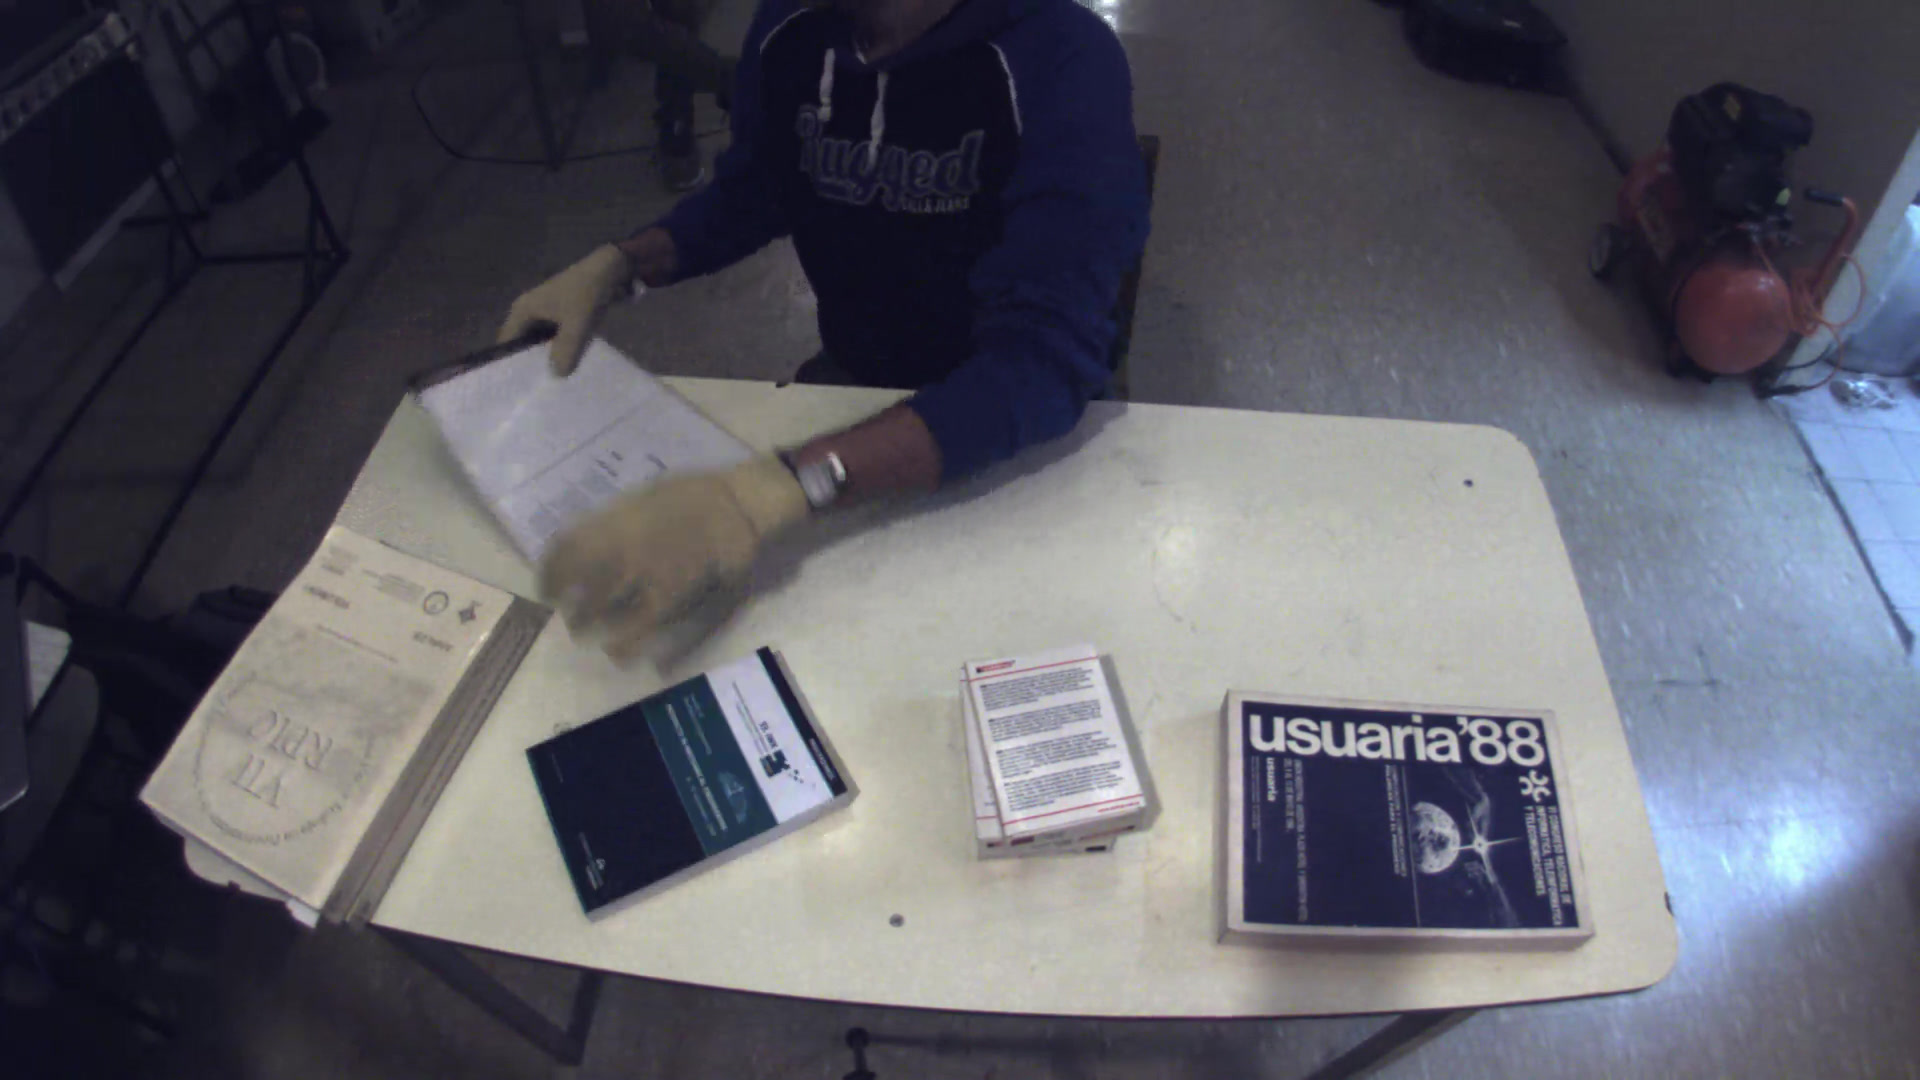hand: (533, 443, 808, 642), (492, 236, 644, 367)
